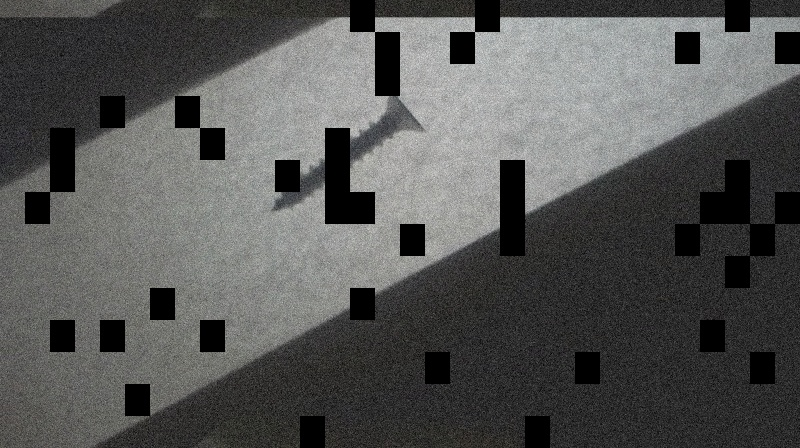S001: (266, 84, 429, 214)
